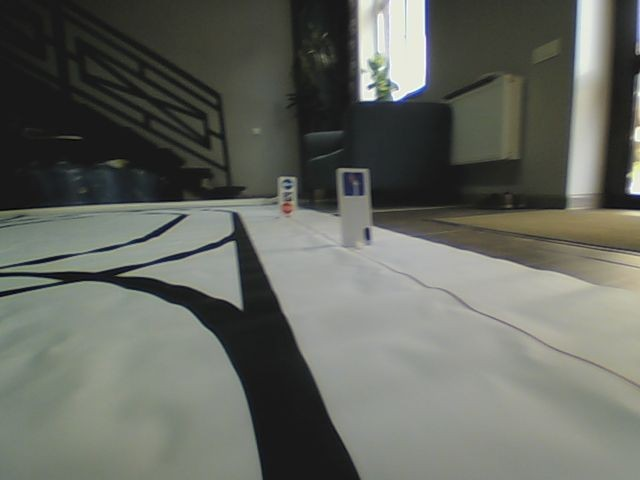priority_movement: (341, 170, 366, 197)
